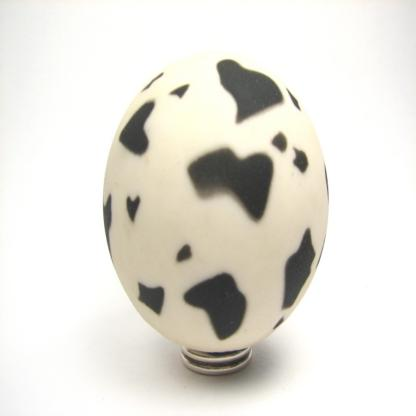Ball: (102, 56, 328, 352)
